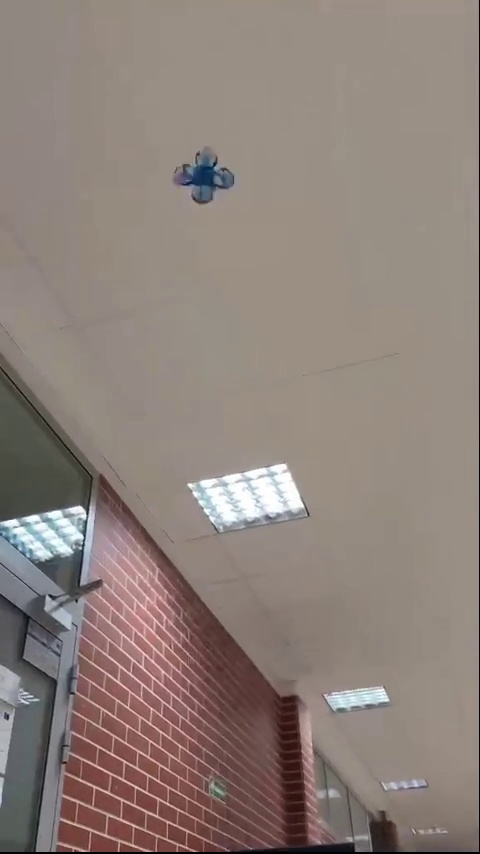drone: (176, 154, 240, 207)
